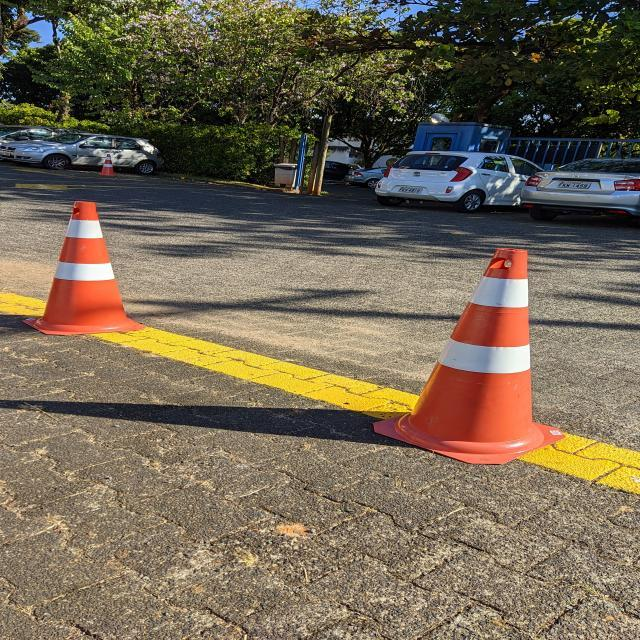Cone: (368, 243, 572, 467), (17, 196, 153, 338), (96, 152, 120, 178)
